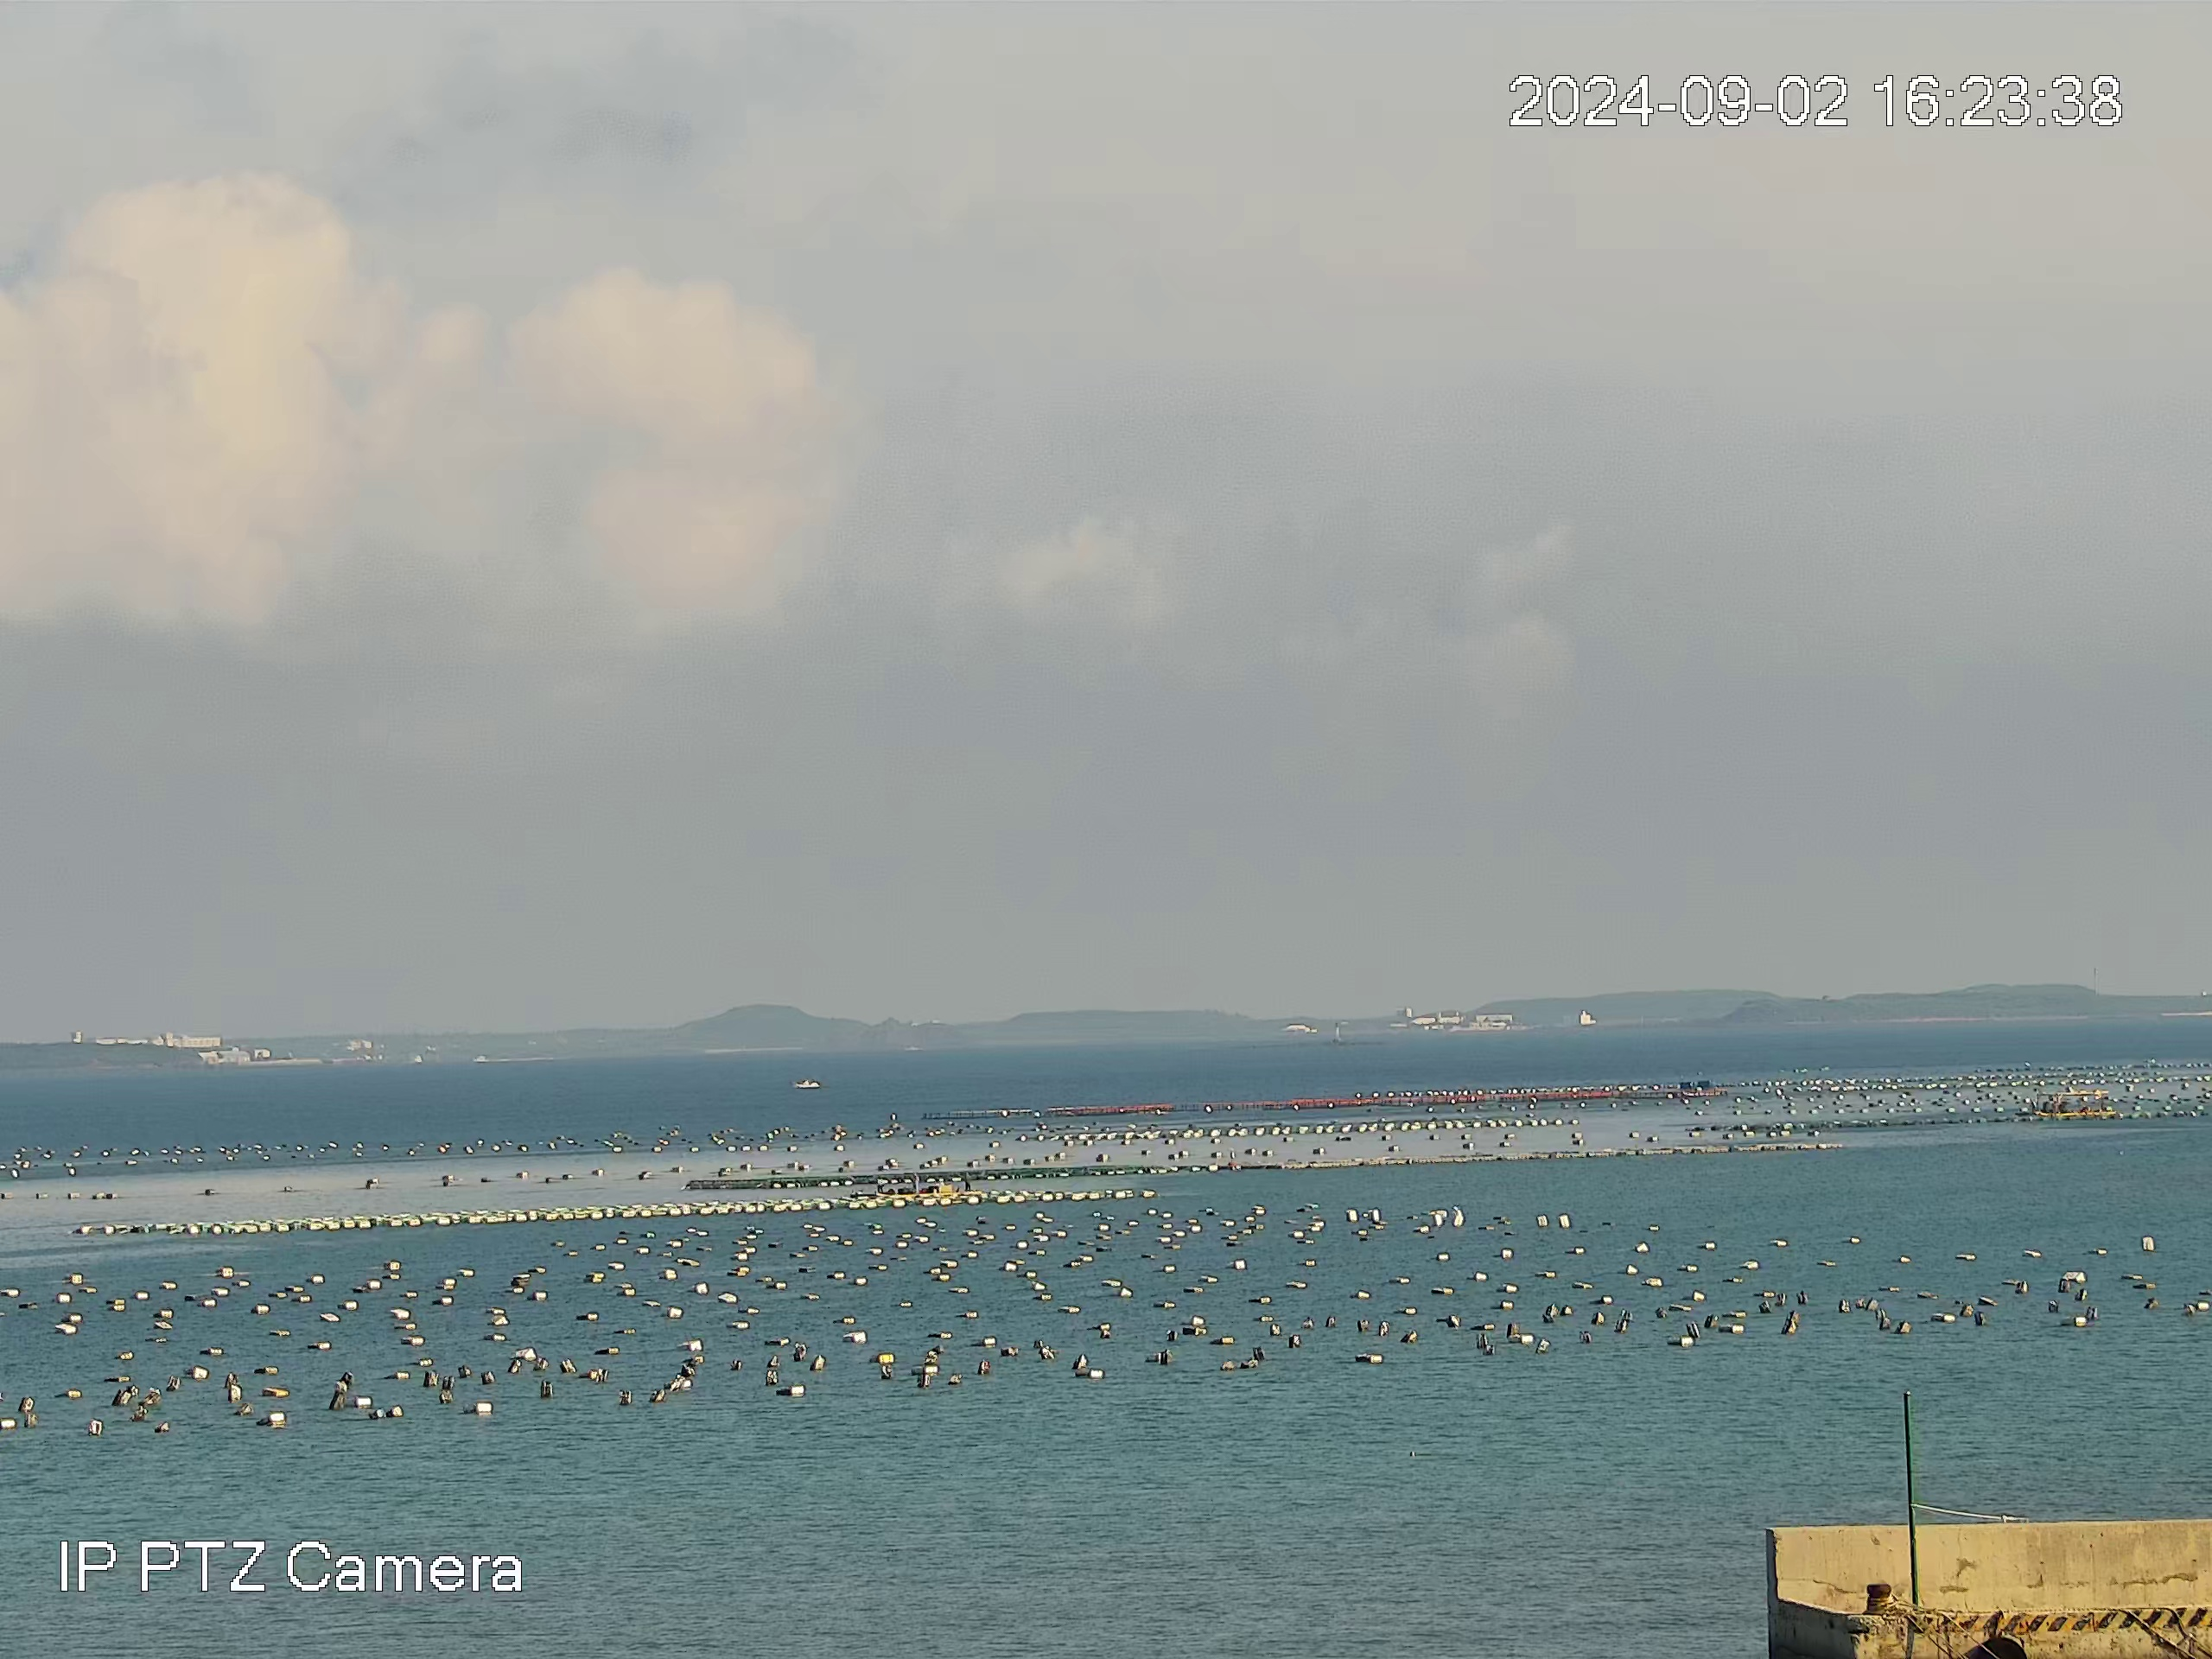boat: (2031, 1089, 2116, 1121), (874, 1175, 961, 1199), (791, 1077, 822, 1091)
